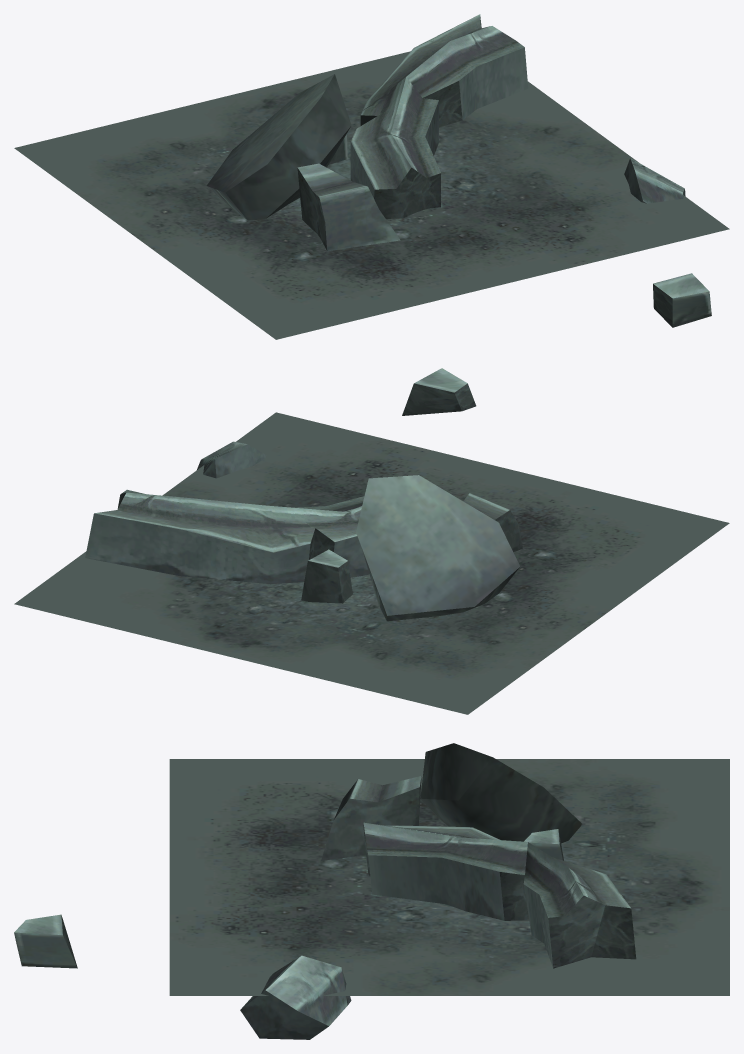
Rendered from crypt_rubble_04.fbx.
The picture shows the model from 3 angles, top to bottom: view 1: azimuth 30°, elevation 25°; view 2: azimuth 150°, elevation 25°; view 3: azimuth 270°, elevation 25°; orthographic projection. The views are drawn at different scales.
Parts seen in each view (by area): view 1: crypt_rubble_04-0; view 2: crypt_rubble_04-0; view 3: crypt_rubble_04-0.
Part boxes in pixels (x1,y1,x2,y2): crypt_rubble_04-0: (14, 14, 729, 339); crypt_rubble_04-0: (14, 368, 729, 714); crypt_rubble_04-0: (14, 743, 729, 1039).
Bounding box in the file's own units: 4.13 × 1.21 × 5.11.
